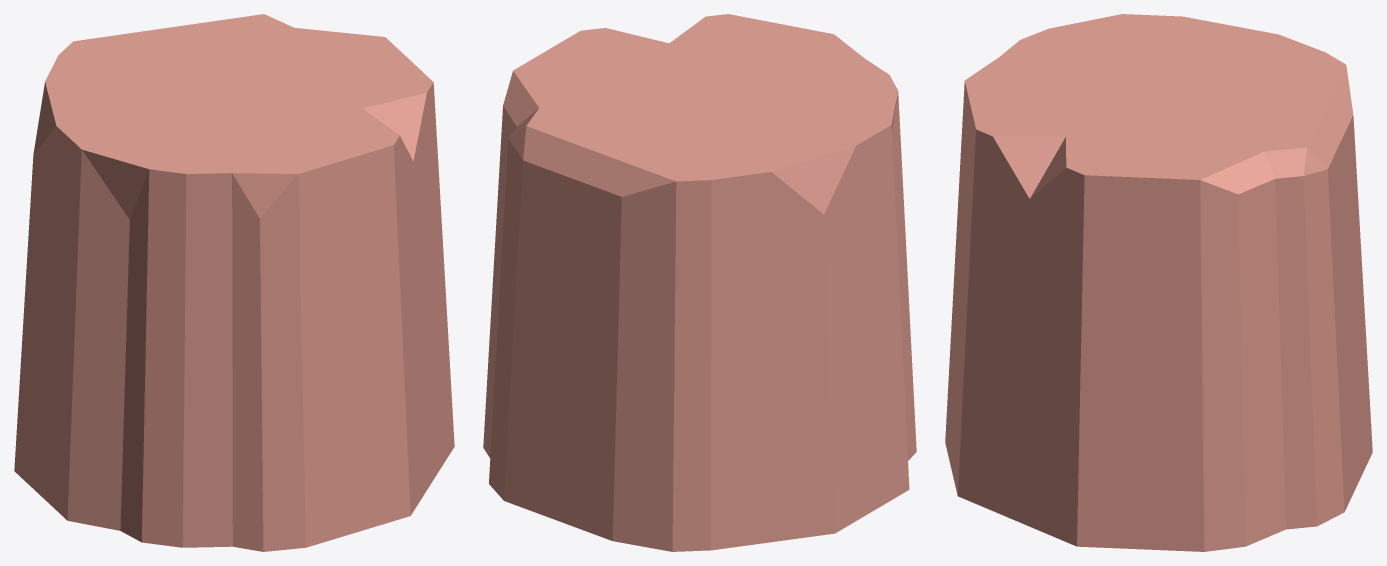
Rendered from Cylinder_004_Vlad.fbx.
3 renders of one model, left to right at view 1: azimuth 30°, elevation 25°; view 2: azimuth 150°, elevation 25°; view 3: azimuth 270°, elevation 25°, orthographic.
Parts seen in each view (by area): view 1: Cylinder.004; view 2: Cylinder.004; view 3: Cylinder.004.
Part boxes in pixels (bbox=[...]): Cylinder.004: bbox=[14, 14, 454, 551]; Cylinder.004: bbox=[483, 14, 916, 551]; Cylinder.004: bbox=[945, 14, 1372, 551].
Size of the model in its own units: 108 by 100 by 107.
